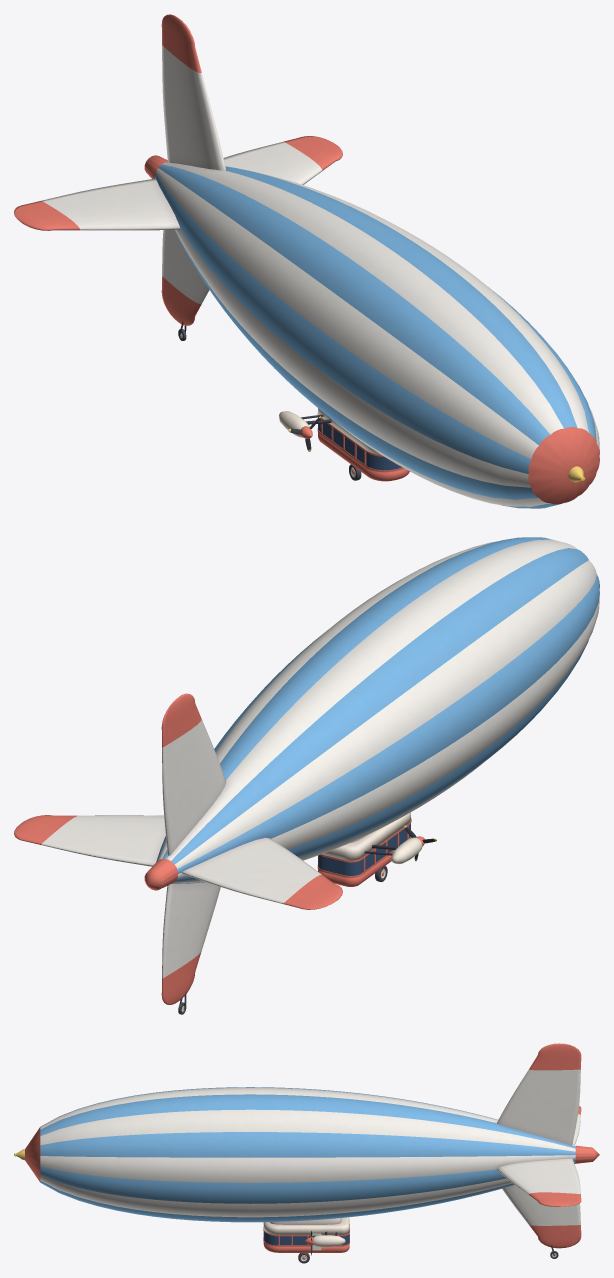
The model's file is airship.glb.
3 views of the same model, one above another, from view 1: azimuth 30°, elevation 25°; view 2: azimuth 150°, elevation 25°; view 3: azimuth 270°, elevation 25° (orthographic). The views are drawn at different scales.
Parts seen in each view (by area): view 1: airship_body, airship_windows; view 2: airship_body, airship_windows; view 3: airship_body, airship_windows.
Boxes of the visible parts, left/top/right/bottom form: airship_body: left=14, top=14, right=599, bottom=508; airship_windows: left=318, top=417, right=402, bottom=470; airship_body: left=14, top=537, right=599, bottom=1009; airship_windows: left=318, top=823, right=410, bottom=875; airship_body: left=14, top=1043, right=599, bottom=1256; airship_windows: left=263, top=1231, right=349, bottom=1245.
Bounding box in the file's own units: 18.84 × 18.22 × 44.95.
18 materials, 1 textured.
